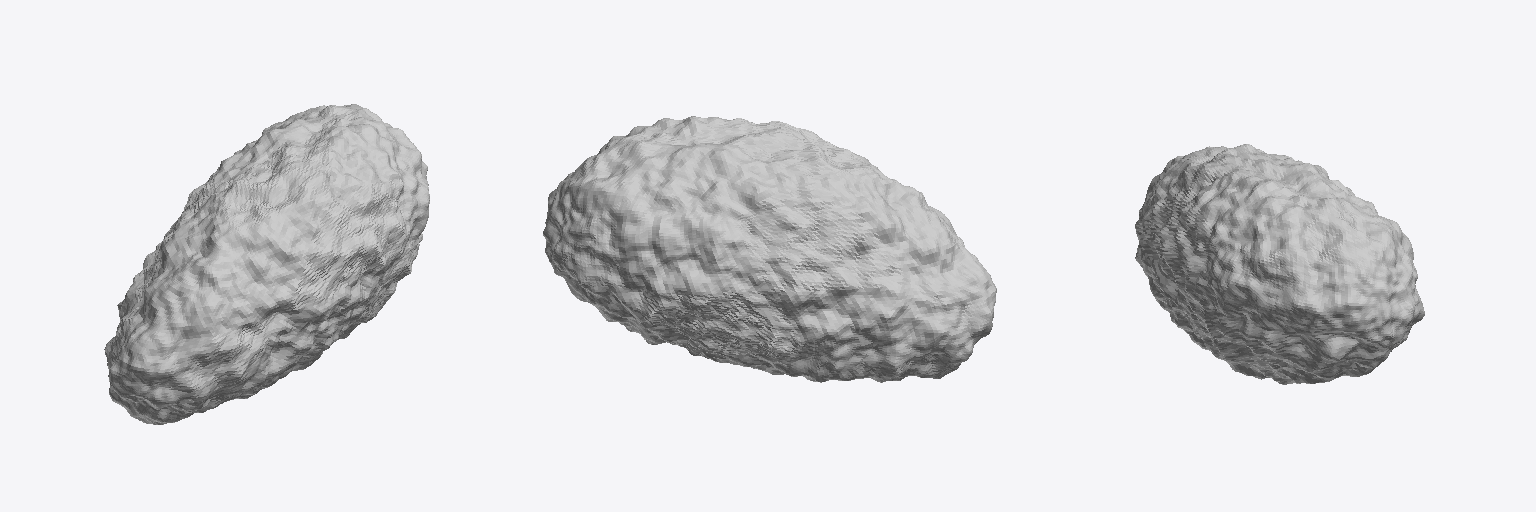
The model's file is Asteroid_2.obj.
3 views of the same model, side by side, from view 1: azimuth 30°, elevation 25°; view 2: azimuth 150°, elevation 25°; view 3: azimuth 270°, elevation 25° (orthographic).
Parts seen in each view (by area): view 1: Cube; view 2: Cube; view 3: Cube.
Part boxes in pixels (x1,y1,x2,y2): Cube: (104,104,429,424); Cube: (543,116,996,382); Cube: (1135,144,1424,384).
Size of the model in its own units: 3.02 by 1.78 by 2.06.